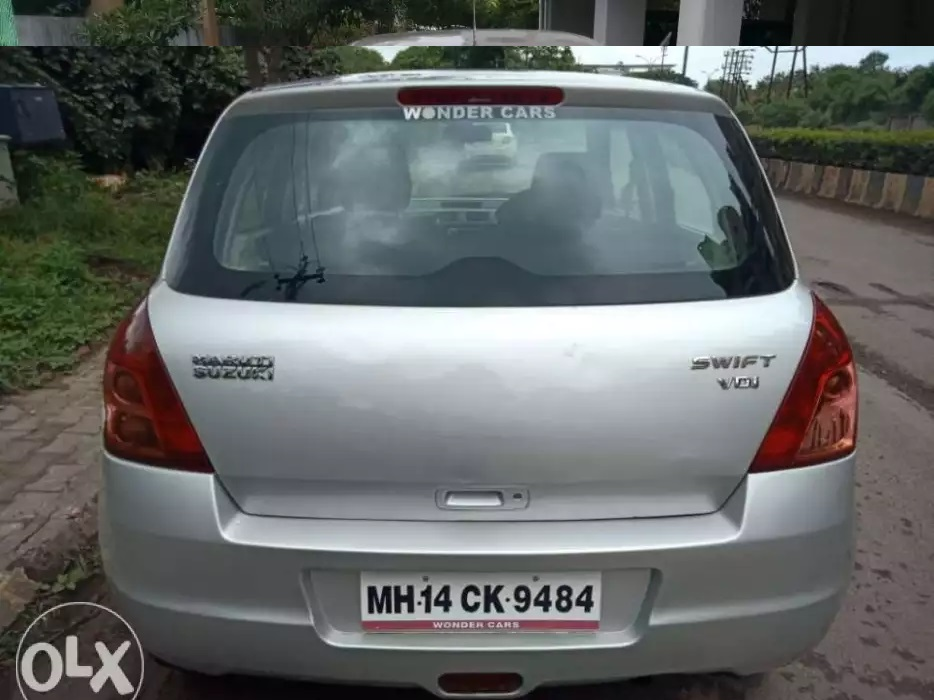licenseplate: (358, 562, 609, 634)
